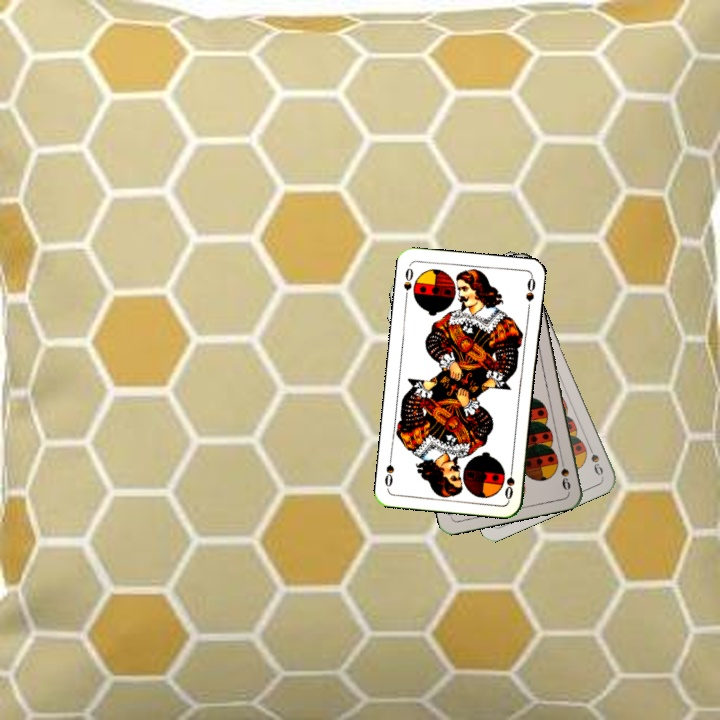S9: (583, 439, 606, 478), (556, 453, 573, 493)
SO: (501, 461, 517, 502), (400, 262, 416, 302)
